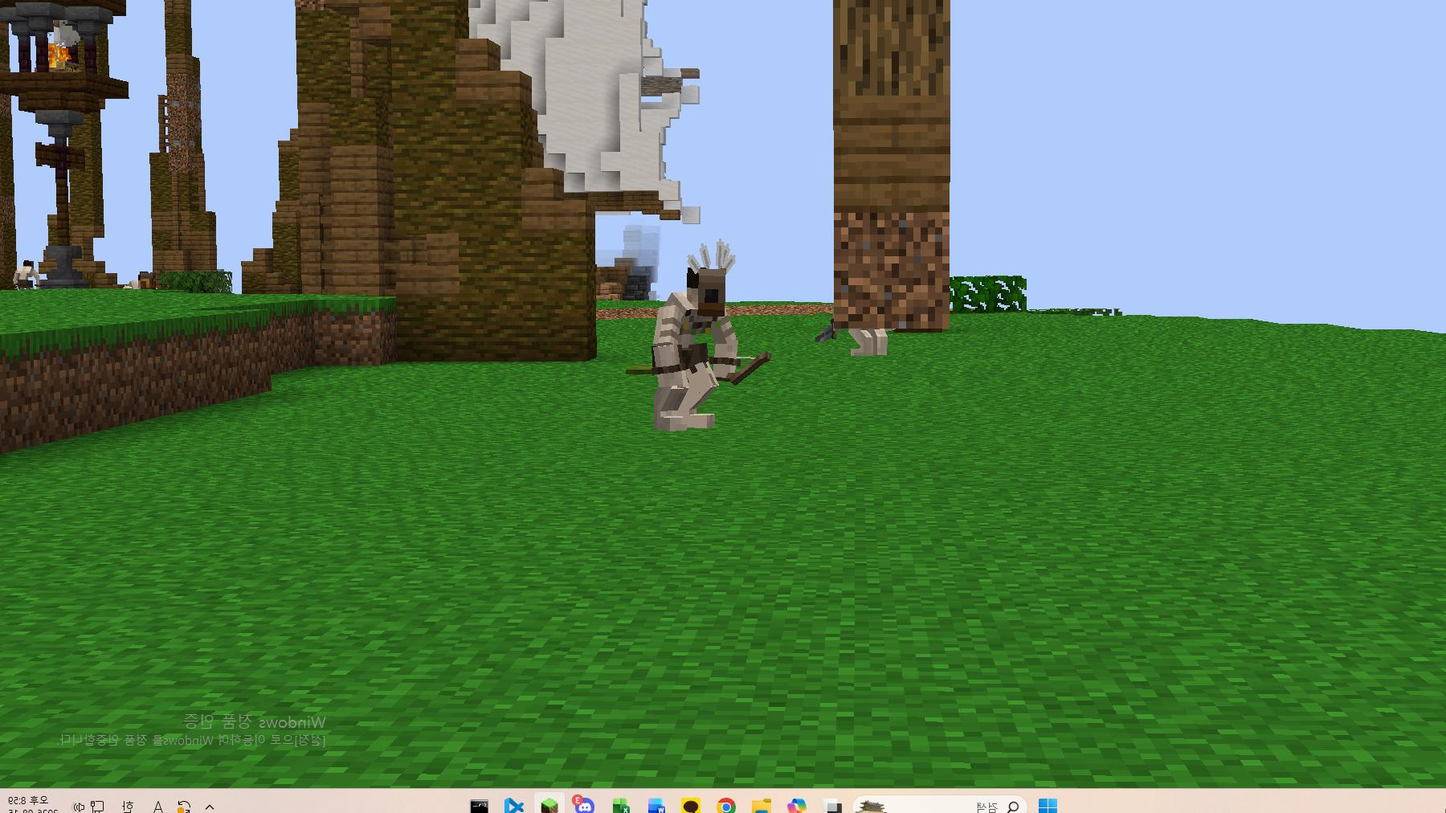bow_indian: (601, 236, 788, 440)
